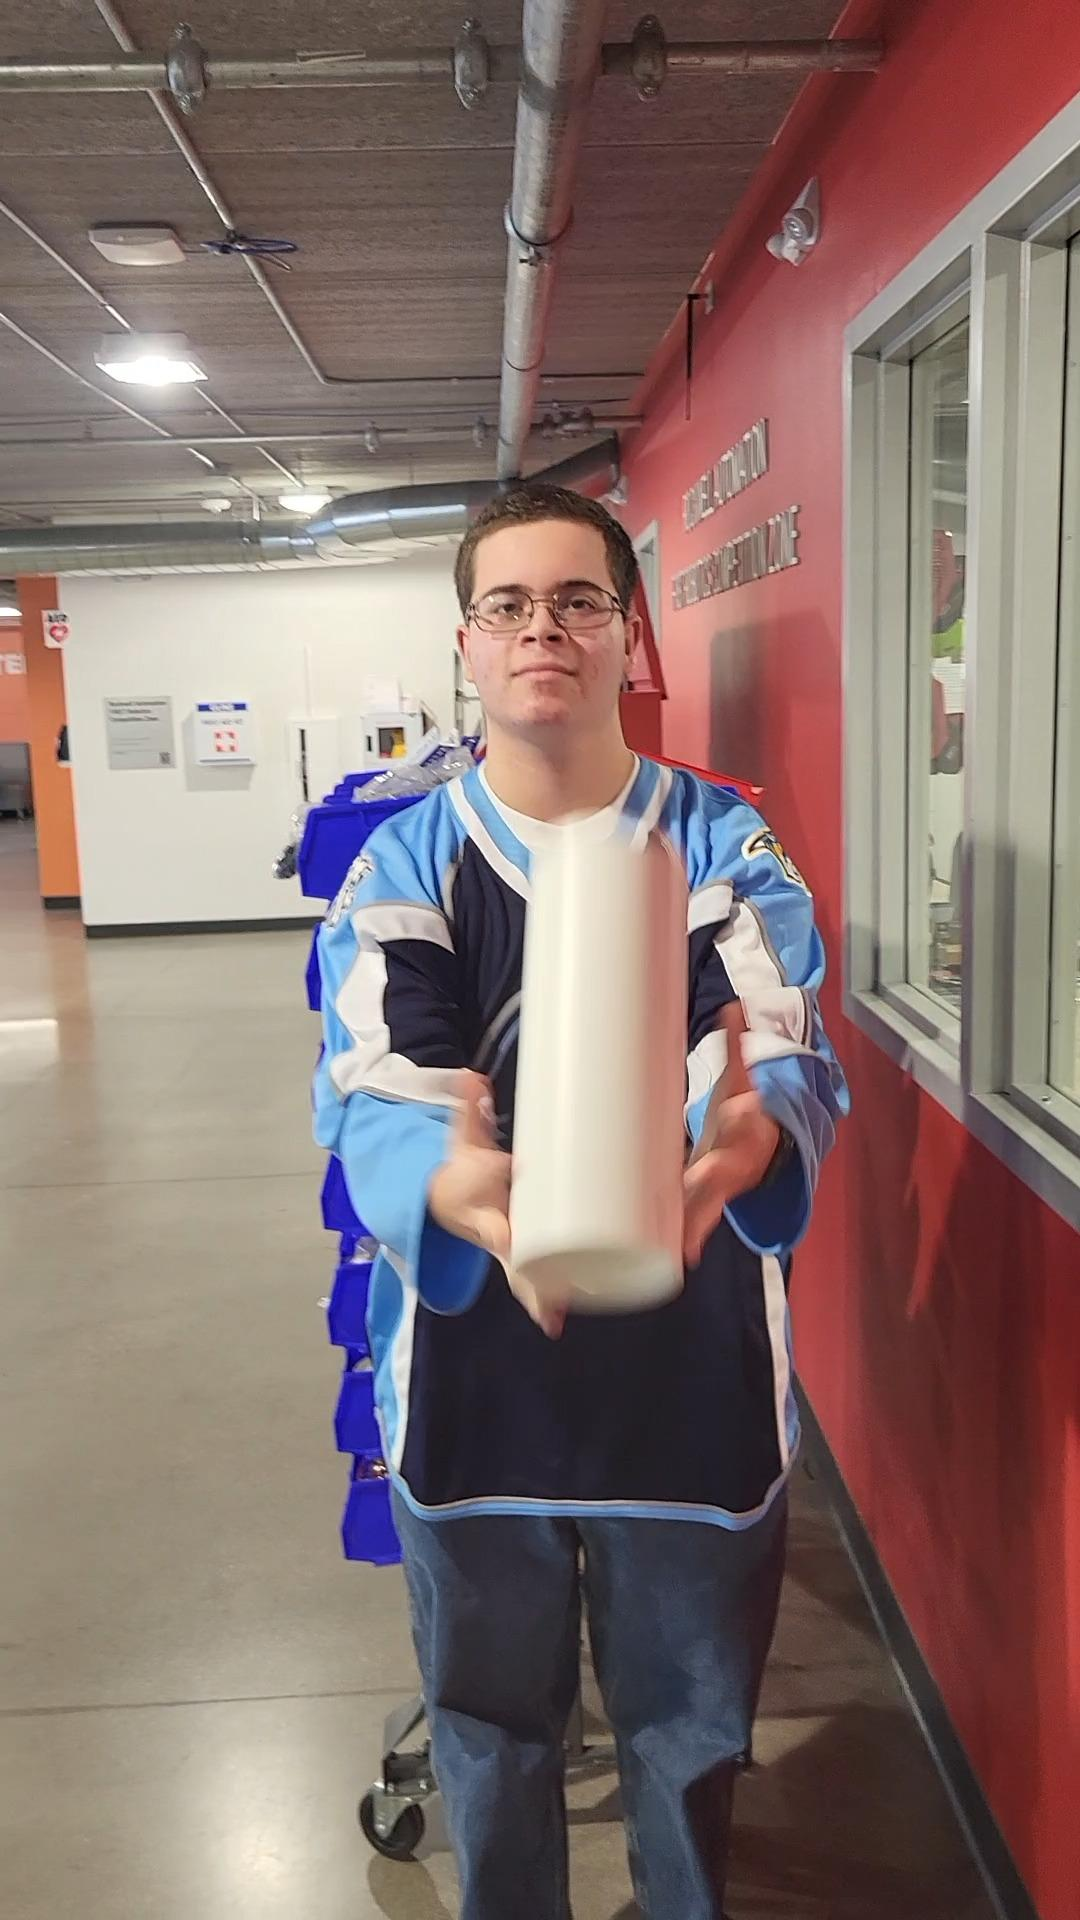coral: (504, 804, 707, 1309)
